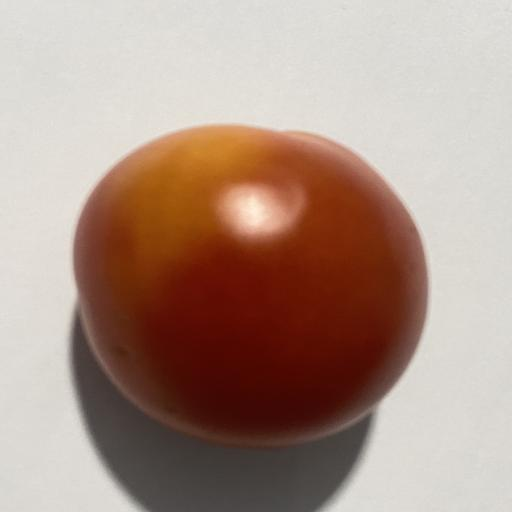ripe: (74, 126, 428, 447)
